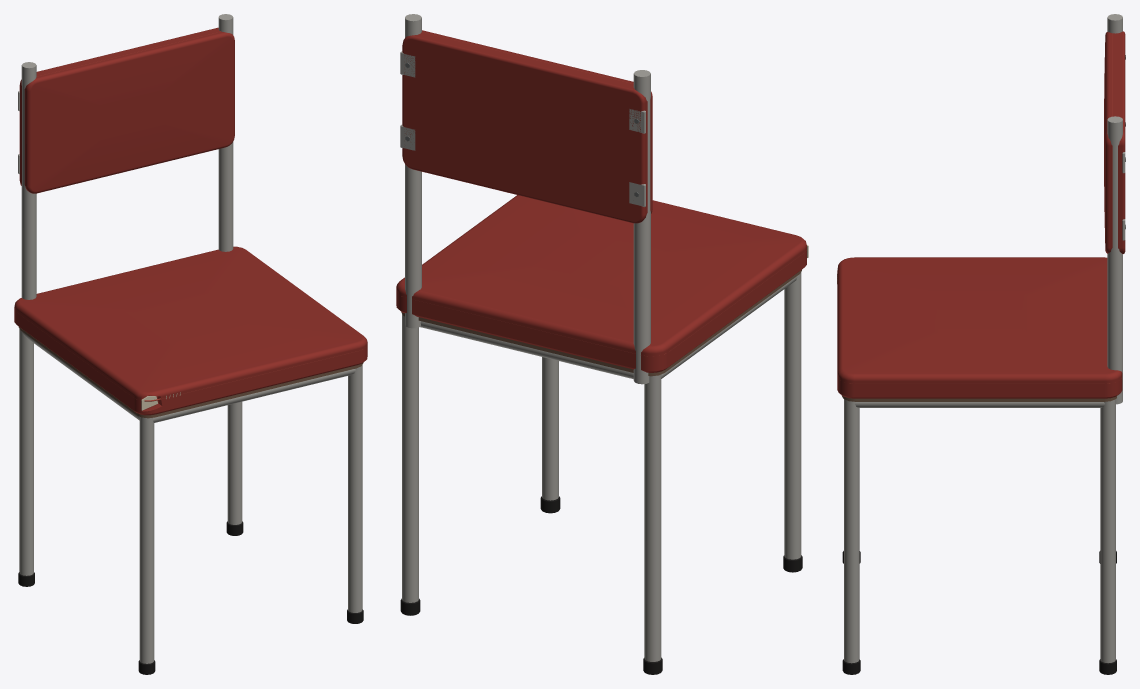
The model's file is kitchen-chair-5b801ba69582.glb.
3 renders of one model, left to right at view 1: azimuth 30°, elevation 25°; view 2: azimuth 150°, elevation 25°; view 3: azimuth 270°, elevation 25°, orthographic. The views are drawn at different scales.
Visible parts, largest first — view 1: enamel-red, brushed, wood, rubber-foot; view 2: enamel-red, brushed, wood, rubber-foot; view 3: enamel-red, brushed, wood, rubber-foot, accent-warm.
Boxes of the visible parts, x1,y1,x2,y2 form: enamel-red: (14, 27, 367, 415); brushed: (18, 14, 362, 663); wood: (18, 327, 363, 418); rubber-foot: (18, 521, 363, 674); enamel-red: (396, 30, 806, 372); brushed: (400, 14, 801, 661); wood: (401, 270, 801, 376); rubber-foot: (400, 496, 802, 674); enamel-red: (837, 31, 1125, 398); brushed: (844, 14, 1125, 663); wood: (841, 395, 1116, 401); rubber-foot: (842, 551, 1116, 674); accent-warm: (840, 33, 1121, 383).
Bounding box in the file's own units: 0.4002 × 0.85 × 0.4056.
